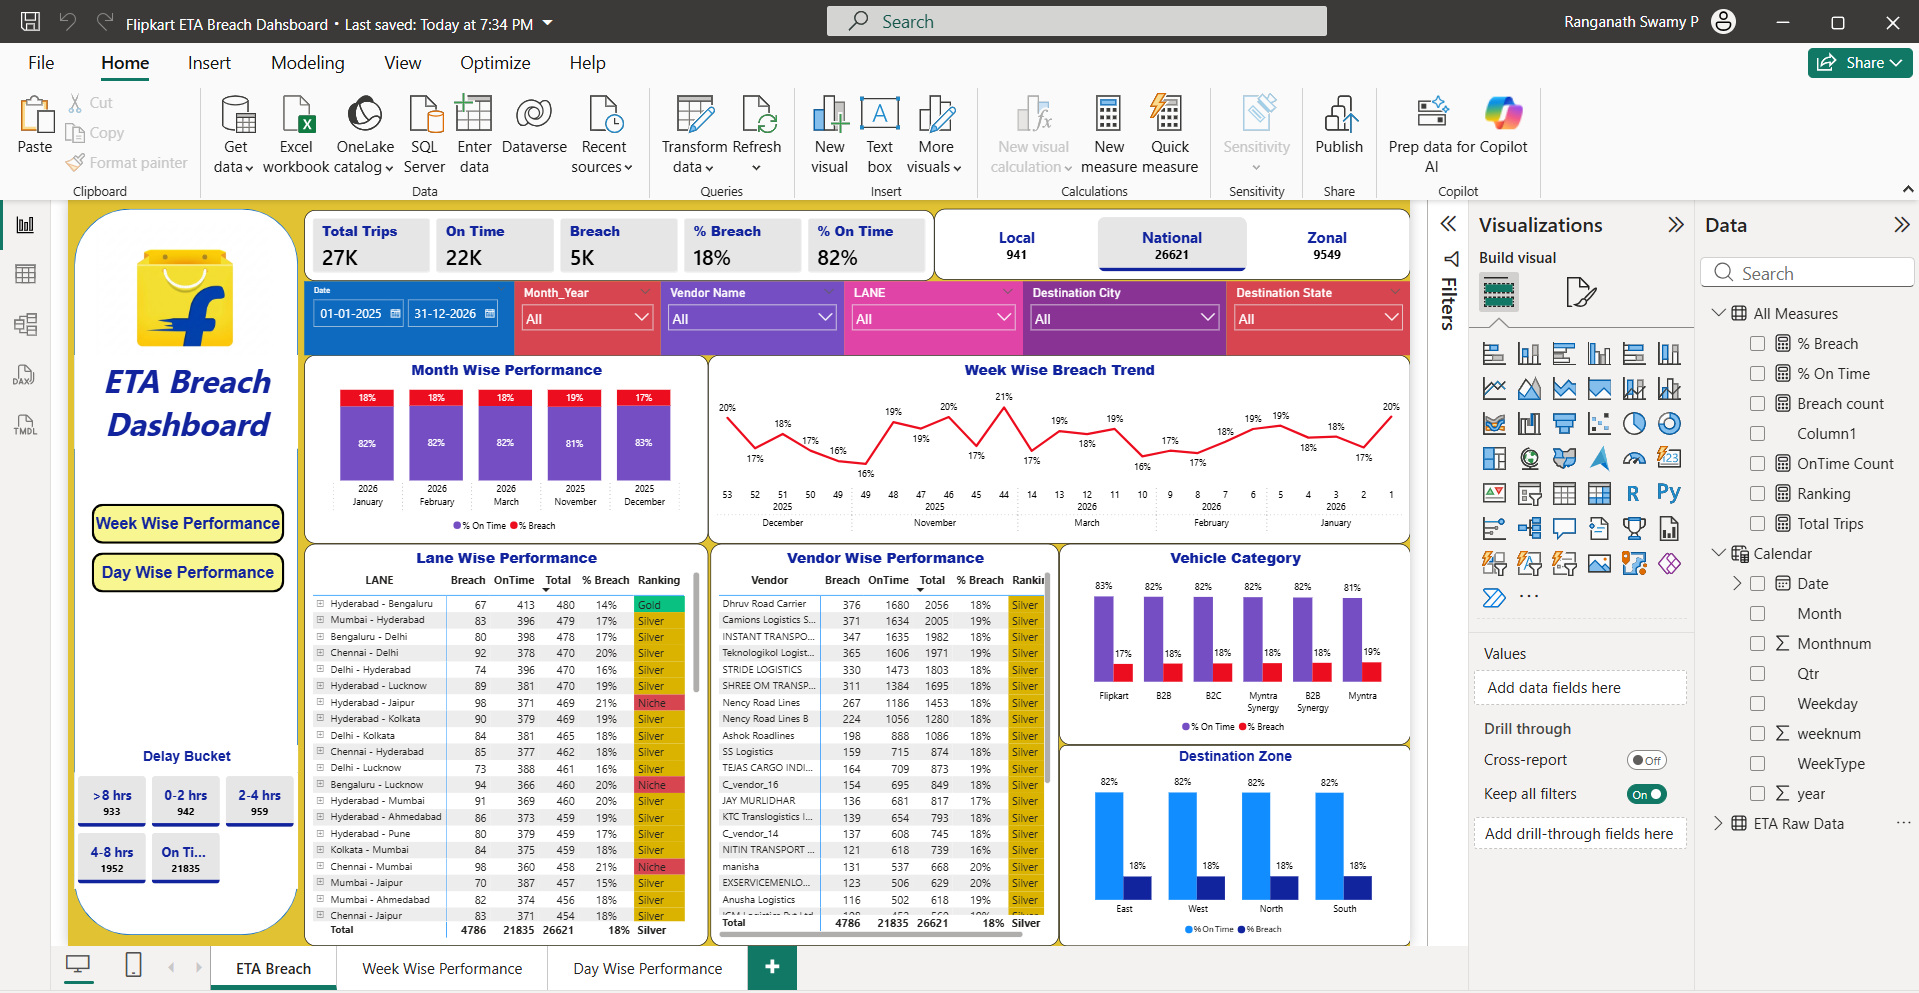

Layout of this report page (visuals, bound fields, positions):
{"tool":"powerbi","page":{"name":"ETA Breach ","canvas":[1800,1000],"ordinal":0},"visuals":[{"type":"cardVisual","fields":{"Data":["All Measures.Total Trips","All Measures.OnTime Count","All Measures.Breach count","All Measures.% Breach","All Measures.% On Time"]},"box":[316.7,13.4,844.5,95.5],"z":0},{"type":"pivotTable","title":"Vendor Wise Performance","fields":{"Values":["All Measures.Breach count","All Measures.OnTime Count","CountNonNull(ETA Raw Data.Trip ID)","All Measures.% Breach","All Measures.Ranking"],"Rows":["ETA Raw Data.Vendor "]},"box":[861.3,460.8,467.5,539.5],"z":1000},{"type":"pivotTable","title":"Lane Wise Performance","fields":{"Values":["All Measures.Breach count","All Measures.OnTime Count","CountNonNull(ETA Raw Data.Trip ID)","All Measures.% Breach","All Measures.Ranking"],"Rows":["ETA Raw Data.lane -1","ETA Raw Data.Vendor "]},"box":[316.7,460.8,541.2,539.5],"z":2000},{"type":"columnChart","title":"Month Wise Performance","fields":{"Category":["Calendar.Date.Variation.Date Hierarchy.Month","Calendar.Date.Variation.Date Hierarchy.Year"],"Y":["All Measures.% On Time","All Measures.% Breach"]},"box":[316.7,207.8,541.2,253],"z":3000},{"type":"shape","box":[8.4,11.7,299.9,973.5],"z":4000},{"type":"image","box":[0,28.5,313.3,237.9],"z":5000},{"type":"actionButton","box":[31.8,407.2,258,53.6],"z":6000},{"type":"textbox","box":[8.4,207.8,299.9,125.7],"z":7000},{"type":"advancedSlicerVisual","title":"Zone Performance","fields":{"Label":["CountNonNull(ETA Raw Data.Trip ID)"],"Values":["ETA Raw Data.LZN"]},"box":[1161.2,11.7,638.4,95.5],"z":8000},{"type":"advancedSlicerVisual","title":"Zone Performance","fields":{"Label":["CountNonNull(ETA Raw Data.Trip ID)"],"Values":["ETA Raw Data.Delay Bucket"]},"box":[8.4,767.4,299.9,155.8],"z":9000},{"type":"slicer","title":"Zone Performance","fields":{"Values":["ETA Raw Data.Vendor Name"]},"box":[794.2,108.9,246.3,98.9],"z":10000},{"type":"slicer","title":"Zone Performance","fields":{"Values":["ETA Raw Data.lane -1"]},"box":[1040.6,108.9,239.6,98.9],"z":11000},{"type":"slicer","title":"Zone Performance","fields":{"Values":["ETA Raw Data.Destination"]},"box":[1280.2,108.9,273.1,98.9],"z":12000},{"type":"slicer","title":"Zone Performance","fields":{"Values":["ETA Raw Data.Month_Year"]},"box":[598.2,108.9,196,98.9],"z":13000},{"type":"lineChart","title":"Week Wise Breach Trend","fields":{"Category":["Calendar.Date.Variation.Date Hierarchy.Month","Calendar.Date.Variation.Date Hierarchy.Year","ETA Raw Data.Week Number"],"Y":["All Measures.% Breach"]},"box":[857.9,207.8,941.7,253],"z":14000},{"type":"clusteredColumnChart","title":"Destination Zone","fields":{"Category":["ETA Raw Data.Destination Zone"],"Y":["All Measures.% On Time","All Measures.% Breach"]},"box":[1328.8,730.6,470.8,269.8],"z":15000},{"type":"slicer","title":"Zone Performance","fields":{"Values":["Calendar.Date"]},"box":[316.7,108.9,281.5,98.9],"z":16000},{"type":"slicer","title":"Zone Performance","fields":{"Values":["ETA Raw Data.Destination State"]},"box":[1553.3,108.9,246.3,98.9],"z":17000},{"type":"clusteredColumnChart","title":"Vehicle Category","fields":{"Category":["ETA Raw Data.Vehicle Category"],"Y":["All Measures.% On Time","All Measures.% Breach"]},"box":[1328.8,460.8,470.8,269.8],"z":18000},{"type":"textbox","box":[10.1,730.6,298.3,36.9],"z":19000},{"type":"actionButton","box":[31.8,472.5,258,53.6],"z":20000}]}

Visuals, with their boxes on the page's 1800x1000 design canvas (x1, y1, x2, y2). These are canvas units, not pixel positions in the 1919x993 screenshot, which may show the page scaled, cropped or inside an application window:
cardVisual - All Measures.Total Trips x All Measures.OnTime Count: bbox=[317, 13, 1161, 109]
"Vendor Wise Performance" pivotTable: bbox=[861, 461, 1329, 1000]
"Lane Wise Performance" pivotTable: bbox=[317, 461, 858, 1000]
"Month Wise Performance" columnChart: bbox=[317, 208, 858, 461]
shape: bbox=[8, 12, 308, 985]
image: bbox=[0, 28, 313, 266]
actionButton: bbox=[32, 407, 290, 461]
textbox: bbox=[8, 208, 308, 334]
"Zone Performance" advancedSlicerVisual: bbox=[1161, 12, 1800, 107]
"Zone Performance" advancedSlicerVisual: bbox=[8, 767, 308, 923]
"Zone Performance" slicer: bbox=[794, 109, 1040, 208]
"Zone Performance" slicer: bbox=[1041, 109, 1280, 208]
"Zone Performance" slicer: bbox=[1280, 109, 1553, 208]
"Zone Performance" slicer: bbox=[598, 109, 794, 208]
"Week Wise Breach Trend" lineChart: bbox=[858, 208, 1800, 461]
"Destination Zone" clusteredColumnChart: bbox=[1329, 731, 1800, 1000]
"Zone Performance" slicer: bbox=[317, 109, 598, 208]
"Zone Performance" slicer: bbox=[1553, 109, 1800, 208]
"Vehicle Category" clusteredColumnChart: bbox=[1329, 461, 1800, 731]
textbox: bbox=[10, 731, 308, 768]
actionButton: bbox=[32, 472, 290, 526]
